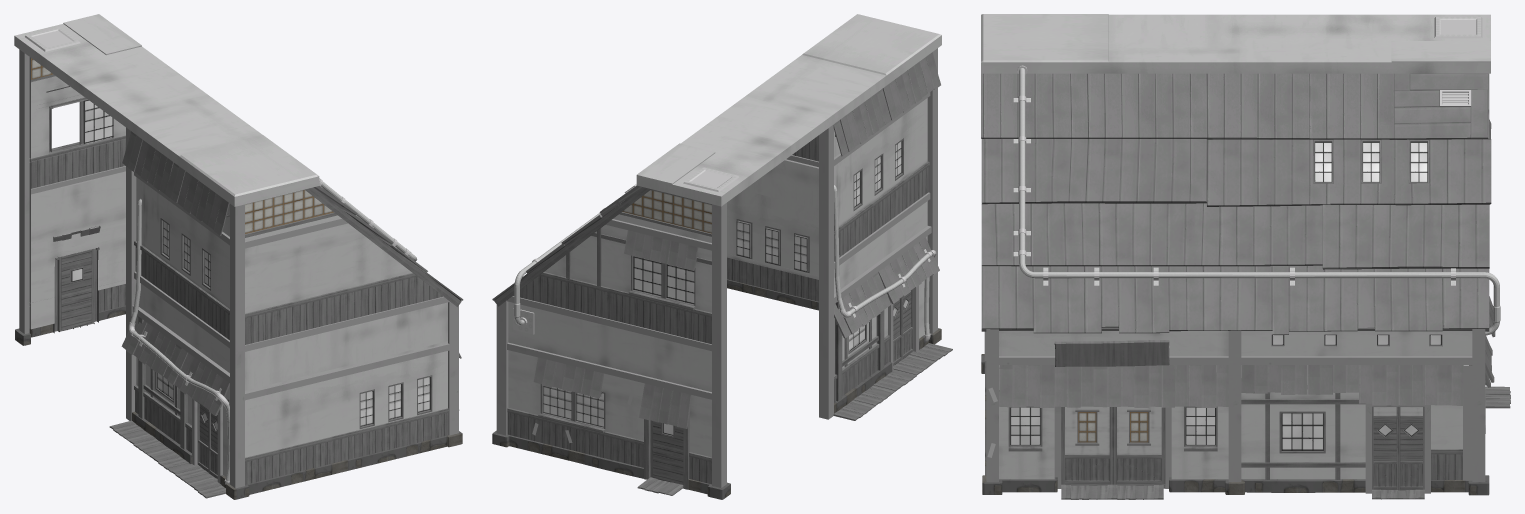
Rendered from SM_ENV_KNVLLG_AreaG_Building_C.mo.fbx.
3 views of the same model, side by side, from view 1: azimuth 30°, elevation 25°; view 2: azimuth 150°, elevation 25°; view 3: azimuth 270°, elevation 25° (orthographic). The views are drawn at different scales.
Visible parts, largest first — view 1: SM_ENV_KNVLLG_AreaG_Building_C.mo; view 2: SM_ENV_KNVLLG_AreaG_Building_C.mo; view 3: SM_ENV_KNVLLG_AreaG_Building_C.mo.
Part boxes in pixels (x1=…): SM_ENV_KNVLLG_AreaG_Building_C.mo: x1=14, y1=14, x2=463, y2=499; SM_ENV_KNVLLG_AreaG_Building_C.mo: x1=492, y1=14, x2=952, y2=499; SM_ENV_KNVLLG_AreaG_Building_C.mo: x1=981, y1=14, x2=1510, y2=499.
Bounding box in the file's own units: 10.85 × 12.24 × 16.62.
